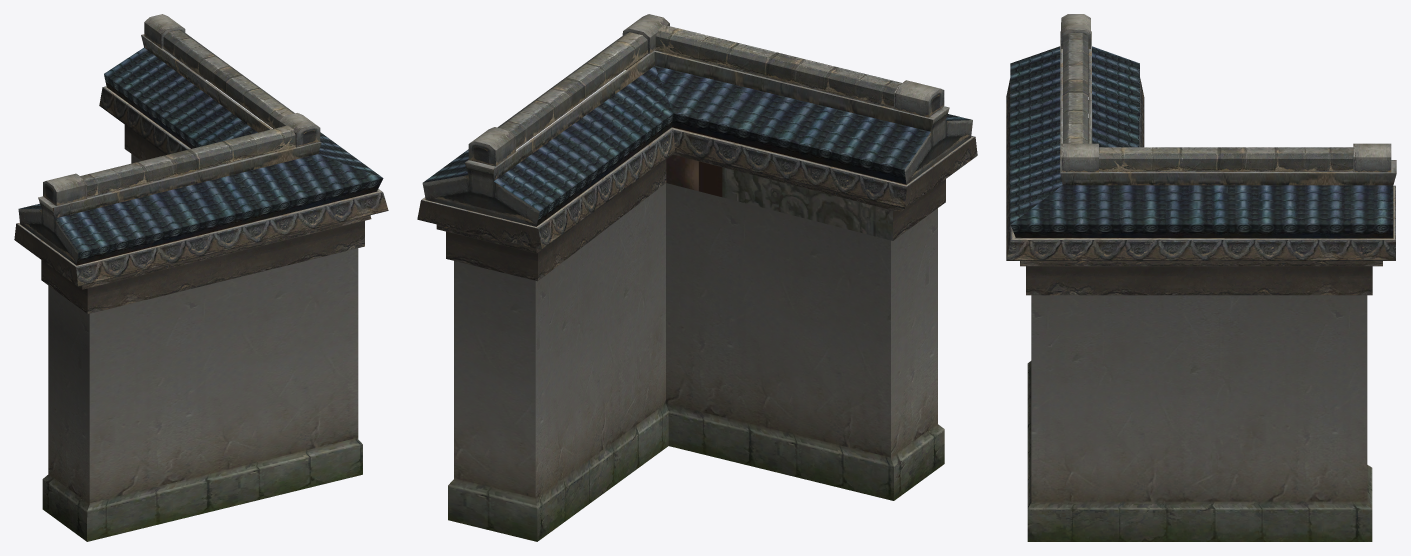
The model's file is jz_weiqiang04_53_28_6242out.fbx.
3 views of the same model, side by side, from view 1: azimuth 30°, elevation 25°; view 2: azimuth 150°, elevation 25°; view 3: azimuth 270°, elevation 25° (orthographic). The views are drawn at different scales.
Visible parts, largest first — view 1: jz_weiqiang04; view 2: jz_weiqiang04; view 3: jz_weiqiang04.
Part boxes in pixels (left/top/right/bottom): jz_weiqiang04: left=14, top=14, right=388, bottom=541; jz_weiqiang04: left=417, top=14, right=977, bottom=541; jz_weiqiang04: left=1006, top=14, right=1396, bottom=541.
Size of the model in its own units: 4.61 by 4.9 by 4.63.
